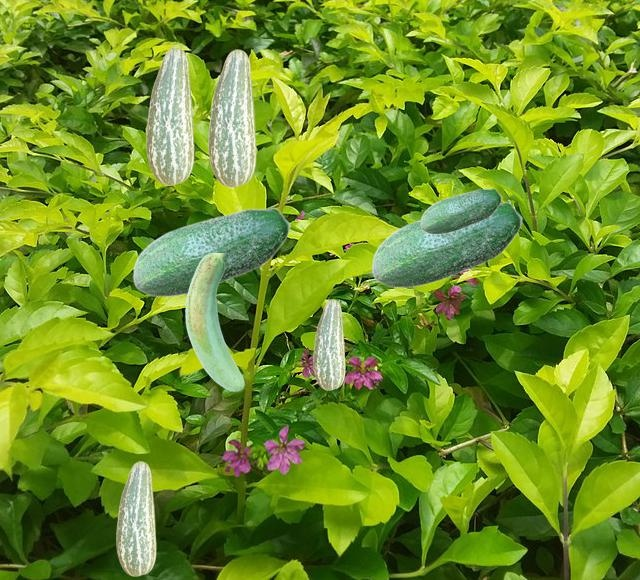cucumber: (132, 207, 290, 296), (371, 201, 522, 287), (185, 253, 243, 390), (146, 47, 193, 184), (208, 49, 255, 186), (116, 461, 155, 575), (420, 188, 501, 233), (313, 299, 344, 389)
